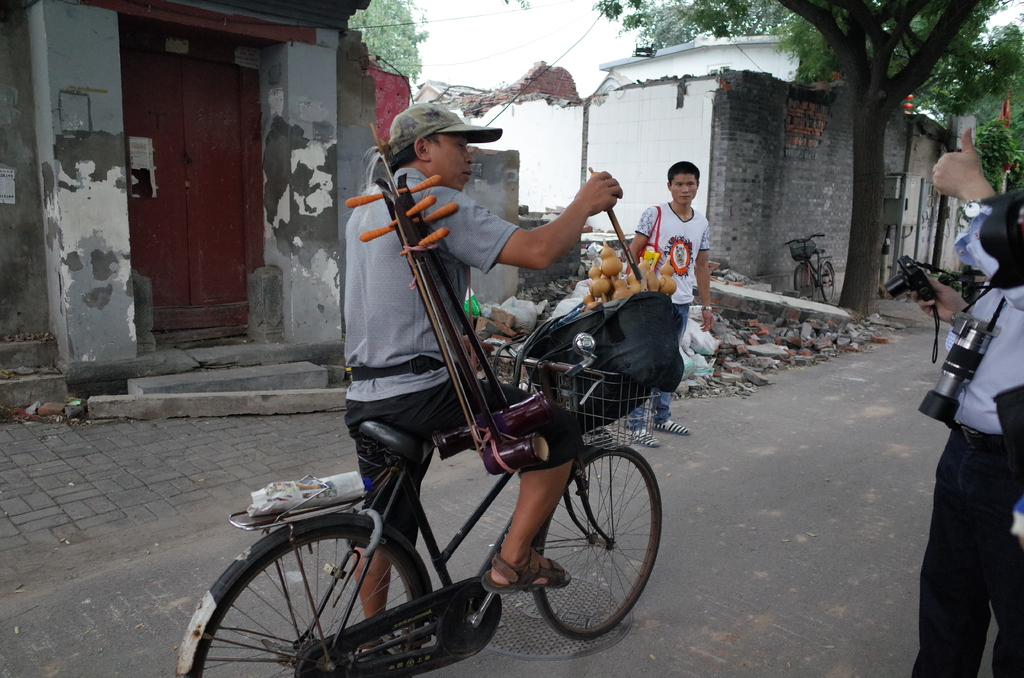Bike_away: (181, 331, 664, 673)
